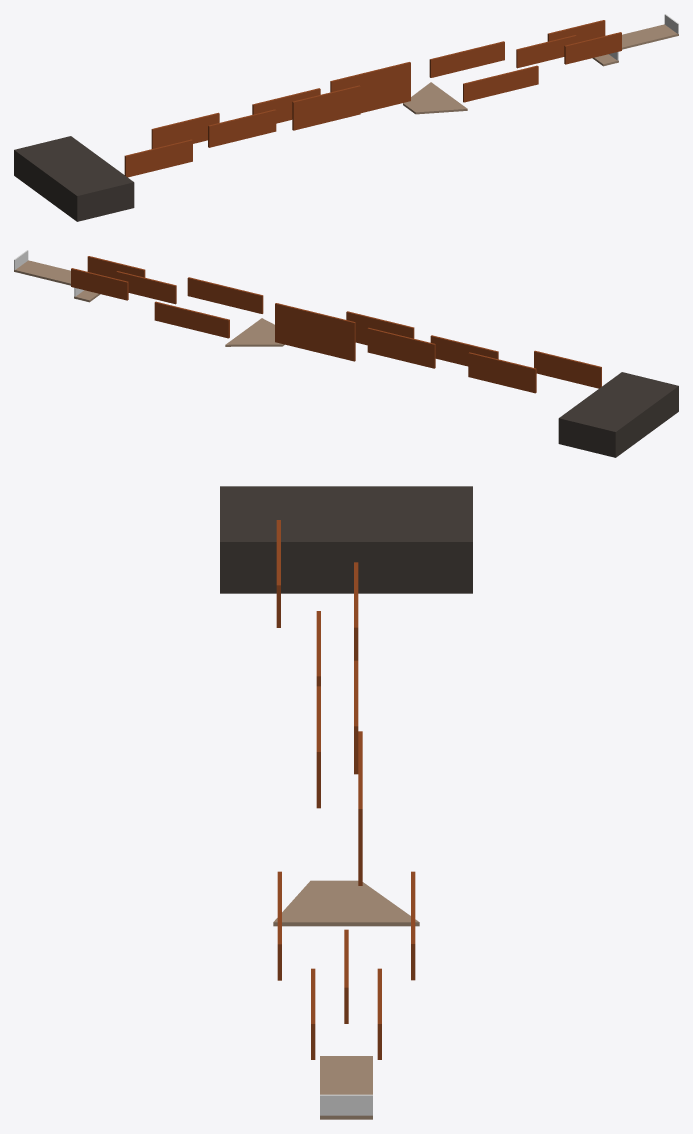
File: stage2.fbx
3 renders of one model, top to bottom at view 1: azimuth 30°, elevation 25°; view 2: azimuth 150°, elevation 25°; view 3: azimuth 270°, elevation 25°, orthographic. The views are drawn at different scales.
Visible parts, largest first — view 1: 0stair4.002, 2walltowall1, 1Wirewall2.001, 1Wirewall2.003, 1Wirewall2.005, 1Wirewall1.001, 1Wirewall1.002, 1Wirewall2.004, save, 2rightwall.002, 2leftwall, 1Wirewall2.002 (+2 smaller); view 2: 0stair4.002, 2walltowall1, 1Wirewall2.004, 1Wirewall2.002, 1Wirewall2.005, 1Wirewall1.001, 1Wirewall1.002, 2rightwall.001, 1Wirewall2.003, 2leftwall, 1Wirewall2.001, save (+2 smaller); view 3: 0stair4.002, save, ground, 0wall2.
Part boxes in pixels (x1,y1,x2,y2): 0stair4.002: (14,136,134,221); 2walltowall1: (330,62,410,113); 1Wirewall2.001: (292,85,360,130); 1Wirewall2.003: (208,109,276,147); 1Wirewall2.005: (124,139,192,177); 1Wirewall1.001: (463,65,538,102); 1Wirewall1.002: (429,41,504,77); 1Wirewall2.004: (151,112,219,148); save: (403,82,467,114); 2rightwall.002: (564,32,621,64); 2leftwall: (516,35,576,68); 1Wirewall2.002: (252,88,320,123); 0stair4.002: (558,372,678,457); 2walltowall1: (275,303,355,361); 1Wirewall2.004: (468,352,536,393); 1Wirewall2.002: (367,327,435,368); 1Wirewall2.005: (534,350,601,388); 1Wirewall1.001: (187,277,263,313); 1Wirewall1.002: (154,301,229,338); 2rightwall.001: (71,268,128,300); 1Wirewall2.003: (430,335,498,366); 2leftwall: (116,271,176,304); 1Wirewall2.001: (346,311,414,345); save: (225,318,284,346); 0stair4.002: (220,486,472,593); save: (273,880,419,926); ground: (320,1056,372,1119); 0wall2: (320,1094,372,1115).
Bounding box in the file's own units: 3262 × 220 × 570.
